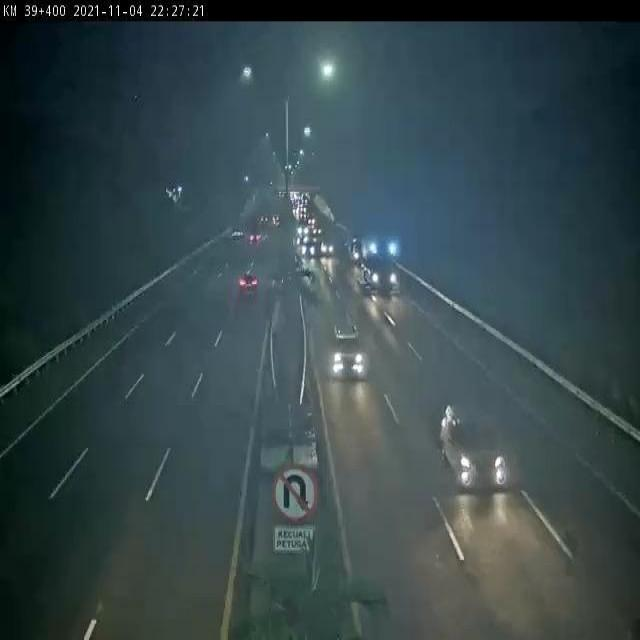car: (440, 400, 506, 487), (330, 321, 363, 376), (238, 271, 258, 297)
truck-m-: (357, 235, 397, 293)
